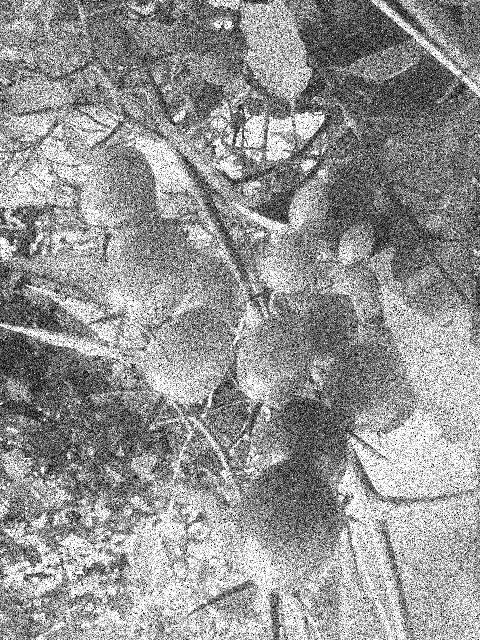l_fully_ripened: (234, 458, 341, 595), (260, 397, 349, 492)
l_green: (143, 306, 233, 406), (102, 226, 193, 324), (322, 342, 403, 435), (236, 311, 313, 405), (80, 147, 156, 236), (296, 293, 358, 367), (172, 257, 238, 324), (261, 230, 317, 293), (329, 266, 381, 326), (353, 326, 404, 371), (289, 176, 329, 233), (338, 219, 375, 266)
